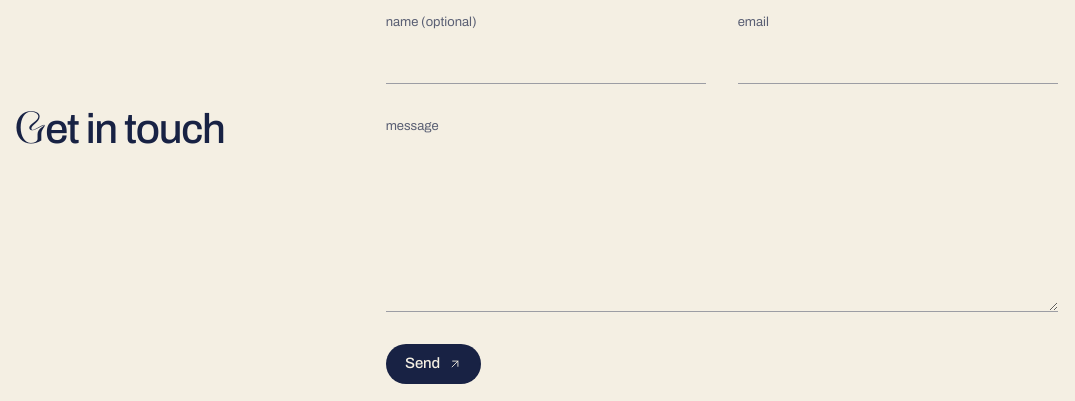
Test: sends sanitized params and shows success
Type "a@b.co" into the field labelled "email" at (898, 61), box [738, 38, 1058, 84]
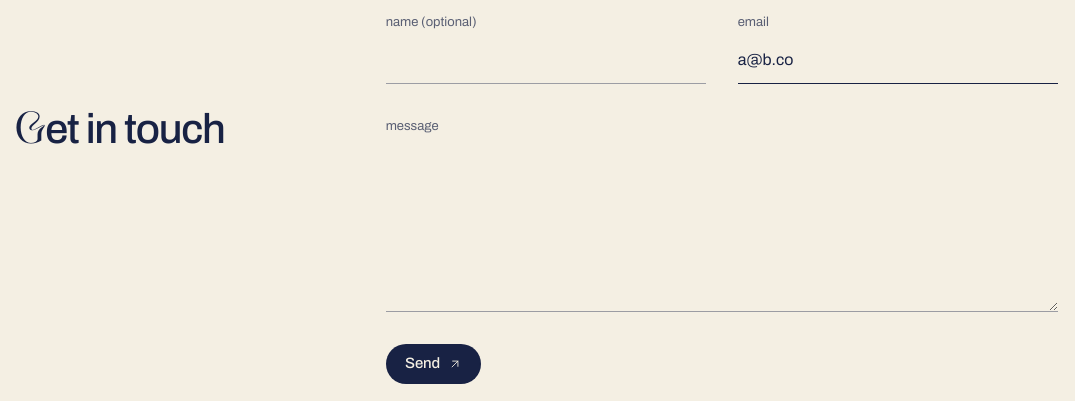
Type "hello <i>there</i>" into the text box labelled "message" at (722, 227), box [386, 142, 1058, 312]
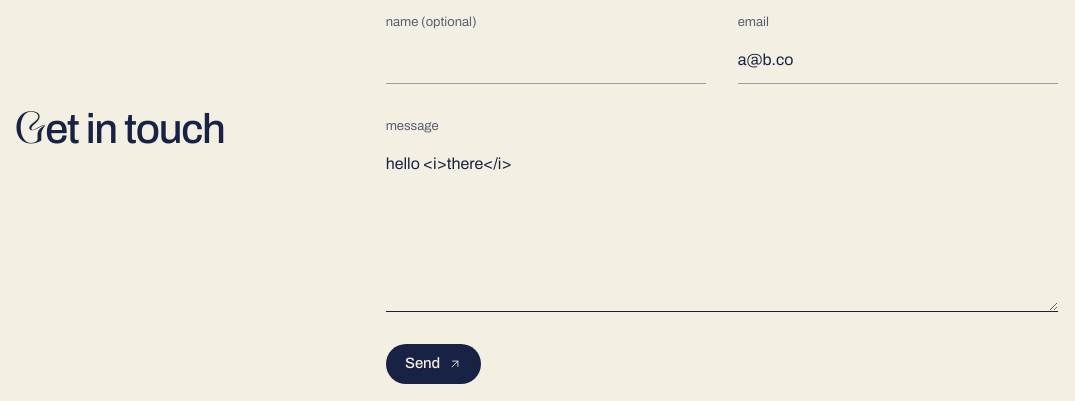
Click the button "Send" at (434, 364), box [386, 344, 482, 384]
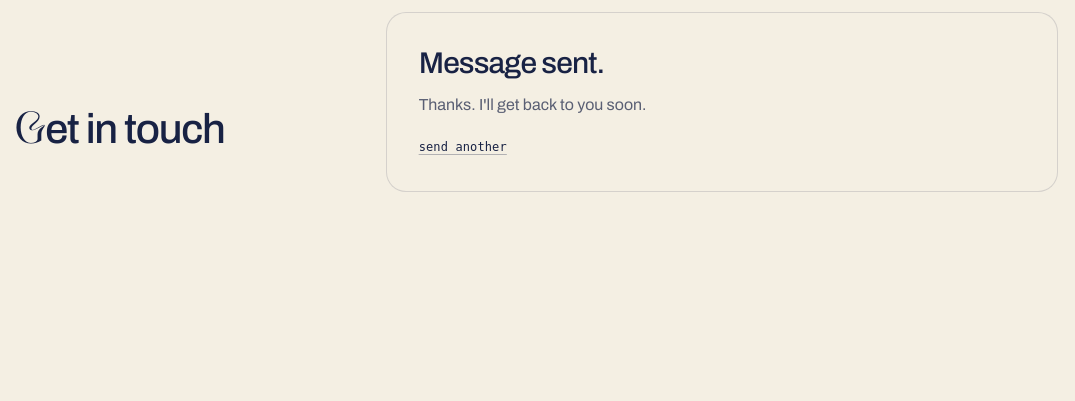
expect the text "Message sent." is shown: met, box [419, 47, 604, 79]
